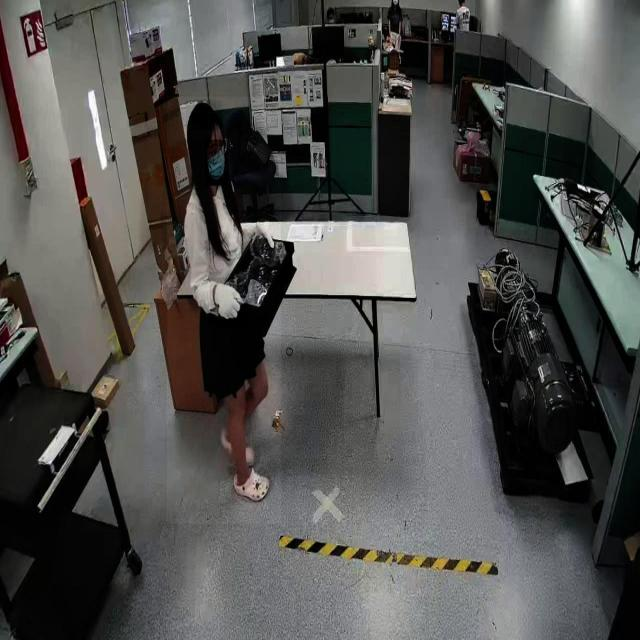face_mask: (206, 140, 228, 186)
hand_glove: (210, 277, 248, 327)
head_nohelmet: (186, 100, 223, 130)
person: (167, 97, 281, 524)
